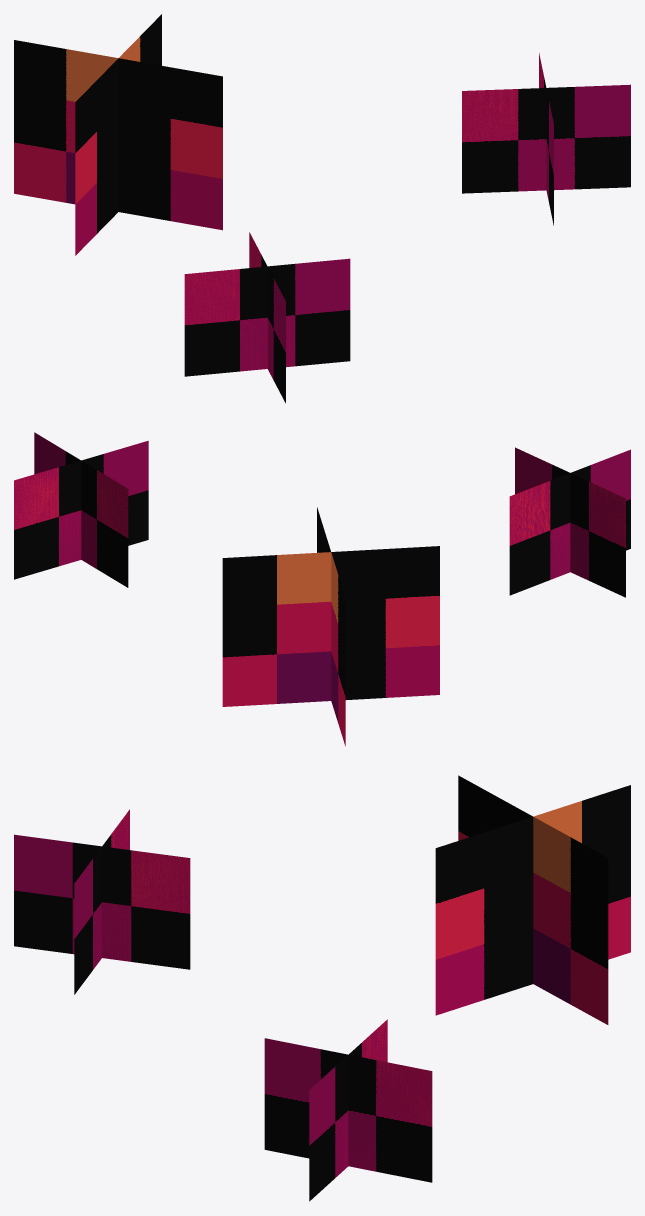
File: crop_crimsoncrest_stage0.obj
3 views of the same model, one above another, from view 1: azimuth 30°, elevation 25°; view 2: azimuth 150°, elevation 25°; view 3: azimuth 270°, elevation 25° (orthographic). The views are drawn at different scales.
Visible parts, largest first — view 1: cube_4, cube_6, cube_8, cube_5, cube_9, cube_7; view 2: cube_5, cube_7, cube_9, cube_8, cube_6, cube_4; view 3: cube_4, cube_9, cube_7, cube_5, cube_6, cube_8.
Part boxes in pixels (x1,y1,x2,y2): cube_4: [14, 40, 222, 230]; cube_6: [462, 84, 630, 193]; cube_8: [184, 258, 350, 376]; cube_5: [75, 14, 161, 255]; cube_9: [249, 232, 285, 403]; cube_7: [539, 53, 553, 225]; cube_5: [222, 546, 439, 706]; cube_7: [14, 440, 148, 579]; cube_9: [509, 449, 630, 595]; cube_8: [515, 447, 625, 597]; cube_6: [34, 432, 128, 587]; cube_4: [317, 507, 345, 746]; cube_4: [435, 785, 630, 1015]; cube_9: [14, 834, 190, 969]; cube_7: [264, 1038, 432, 1182]; cube_5: [458, 775, 608, 1024]; cube_6: [309, 1019, 387, 1201]; cube_8: [74, 809, 129, 994].
Size of the model in its own units: 0.6744 by 0.1875 by 0.6261.
